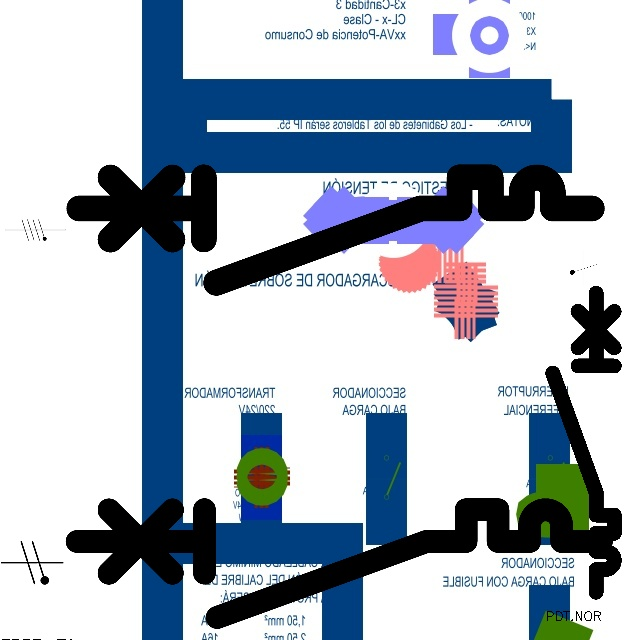interruptor_termomagnetico: (63, 496, 614, 631), (66, 164, 605, 296), (545, 285, 622, 599)
